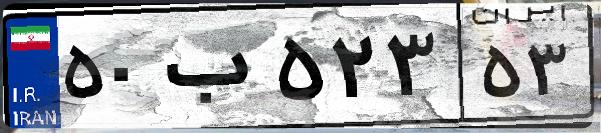0: (110, 28, 158, 98)
2: (330, 28, 385, 110)
3: (385, 28, 445, 110), (525, 38, 570, 115)
5: (270, 28, 330, 110), (57, 26, 110, 100), (475, 38, 525, 113)
ب: (158, 20, 270, 120)
